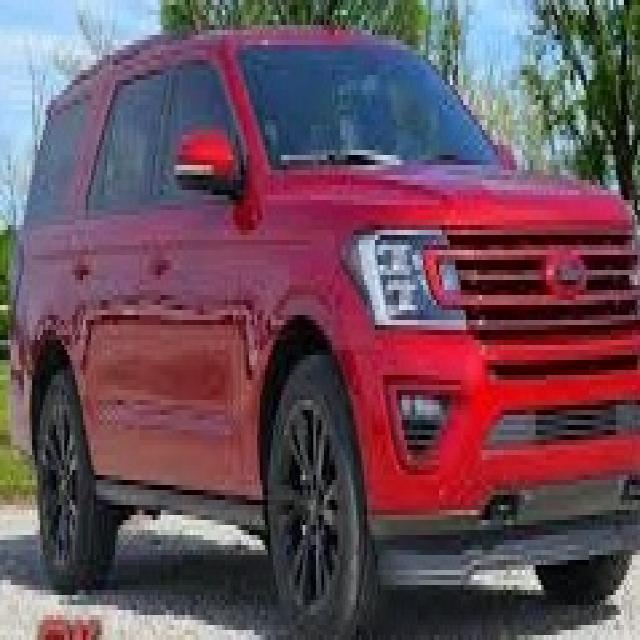red: (16, 18, 640, 612)
